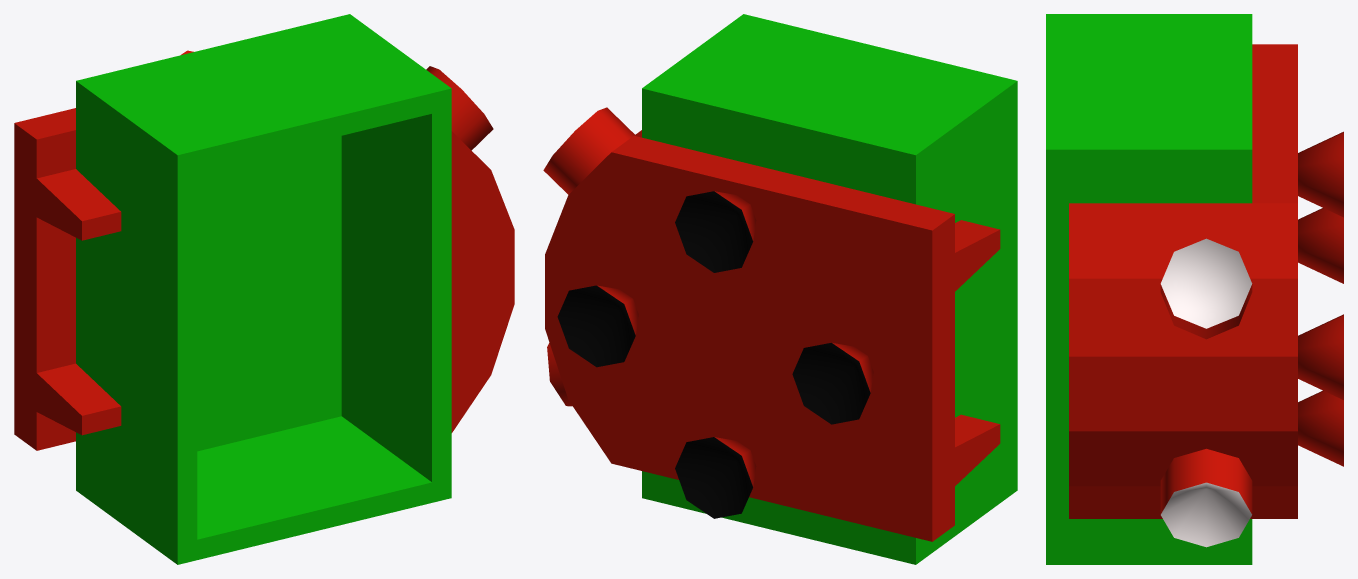
File: robot_truck.gltf
3 renders of one model, left to right at view 1: azimuth 30°, elevation 25°; view 2: azimuth 150°, elevation 25°; view 3: azimuth 270°, elevation 25°, orthographic.
Visible parts, largest first — view 1: CargoContainer, BodyBase, SonarLeft; view 2: BodyBase, CargoContainer, Nozzle2.002, Nozzle2.001, Nozzle2.003, Nozzle2.004, SonarLeft; view 3: BodyBase, CargoContainer, SonarLeft.001, SonarLeft.002, SonarRight, Nozzle3, Nozzle2, Nozzle4, Nozzle1, SonarLeft.
Part boxes in pixels (x1,y1,x2,y2): CargoContainer: [76, 14, 451, 564]; BodyBase: [14, 108, 514, 450]; SonarLeft: [426, 66, 493, 150]; BodyBase: [545, 130, 1000, 541]; CargoContainer: [642, 14, 1017, 564]; Nozzle2.002: [557, 285, 635, 367]; Nozzle2.001: [675, 191, 753, 272]; Nozzle2.003: [675, 437, 752, 518]; Nozzle2.004: [792, 342, 870, 424]; SonarLeft: [543, 107, 634, 194]; BodyBase: [1069, 44, 1297, 518]; CargoContainer: [1046, 14, 1252, 564]; SonarLeft.001: [1160, 238, 1252, 328]; SonarLeft.002: [1161, 482, 1251, 547]; SonarRight: [1160, 448, 1252, 514]; Nozzle3: [1298, 314, 1343, 399]; Nozzle2: [1298, 131, 1343, 217]; Nozzle4: [1298, 390, 1343, 466]; Nozzle1: [1298, 208, 1343, 283]; SonarLeft: [1160, 284, 1252, 339].
Bounding box in the file's own units: 1.09 × 1 × 0.65.
